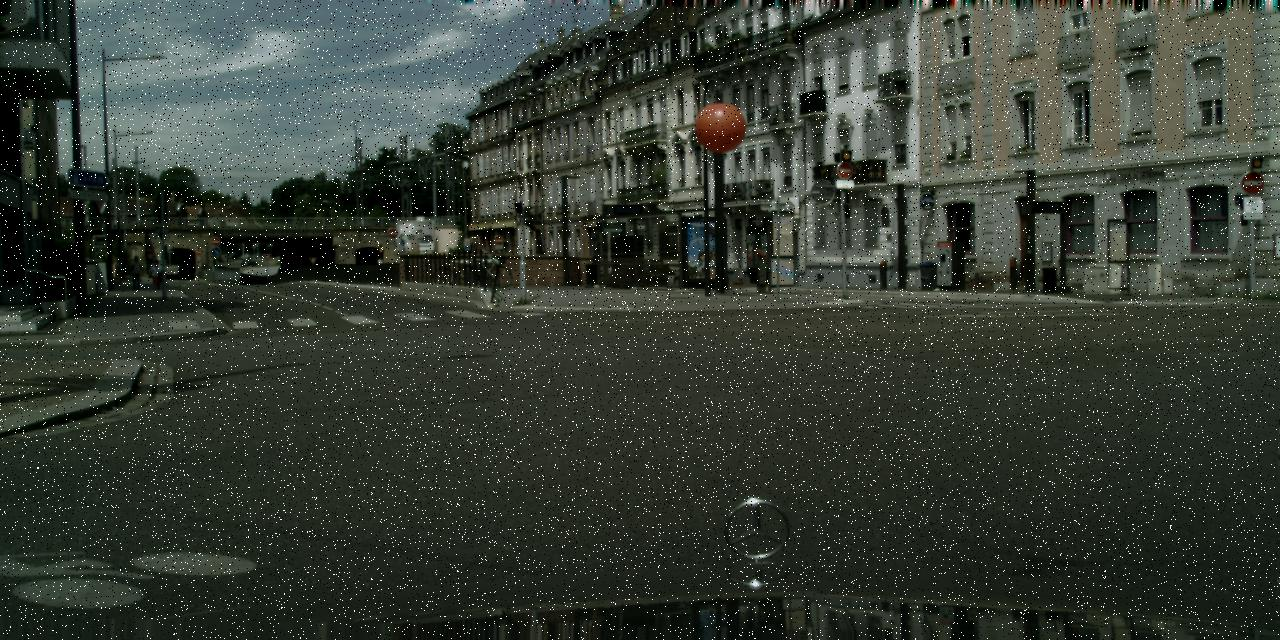ped: (128, 254, 143, 290), (150, 260, 160, 289)
